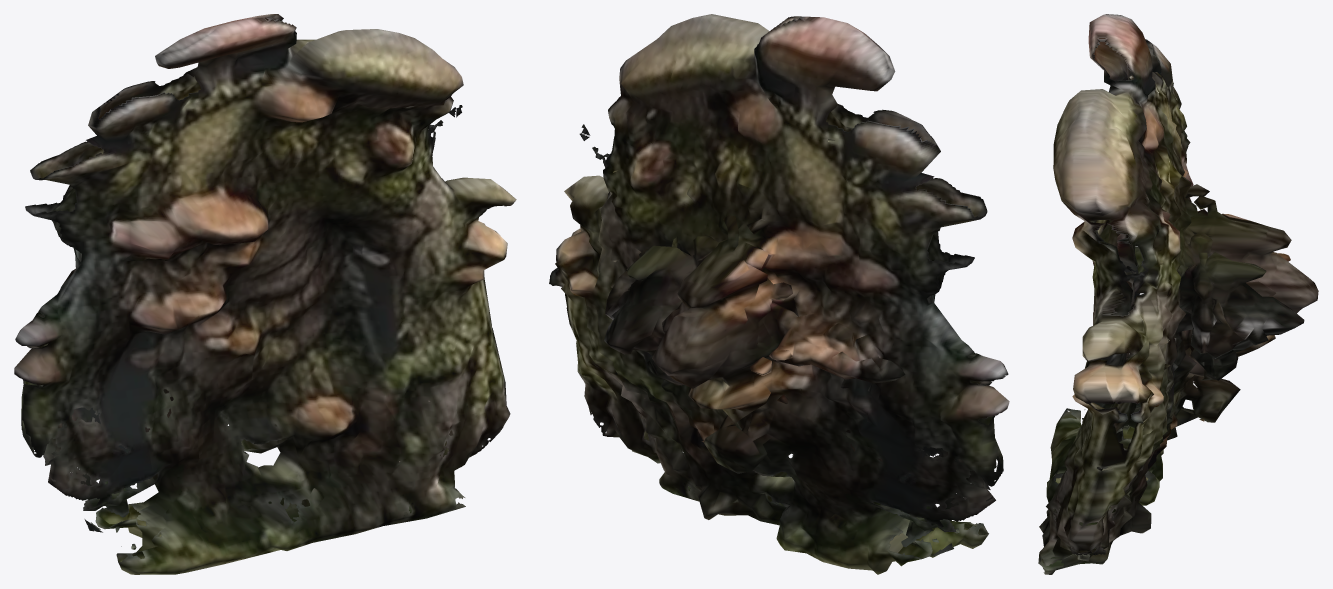
The model's file is fungalbehemoth.glb.
The picture shows the model from 3 angles, left to right: view 1: azimuth 30°, elevation 25°; view 2: azimuth 150°, elevation 25°; view 3: azimuth 270°, elevation 25°; orthographic projection. The views are drawn at different scales.
Visible parts, largest first — view 1: geometry_0; view 2: geometry_0; view 3: geometry_0.
Boxes of the visible parts, x1=… form: geometry_0: x1=14, y1=14, x2=516, y2=574; geometry_0: x1=549, y1=14, x2=1009, y2=574; geometry_0: x1=1038, y1=14, x2=1318, y2=574.
Bounding box in the file's own units: 0.9379 × 0.9821 × 0.5282.
1 material, 1 textured.
